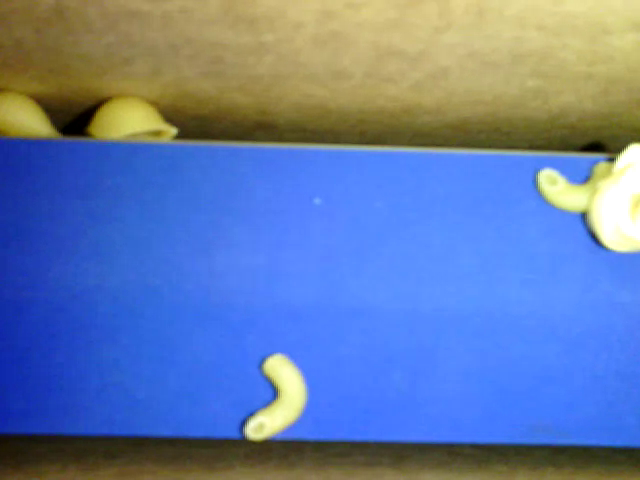elbow: (240, 348, 310, 439), (535, 163, 616, 213)
shell: (87, 98, 180, 143), (1, 92, 67, 139)
tortellini: (583, 134, 639, 250)
